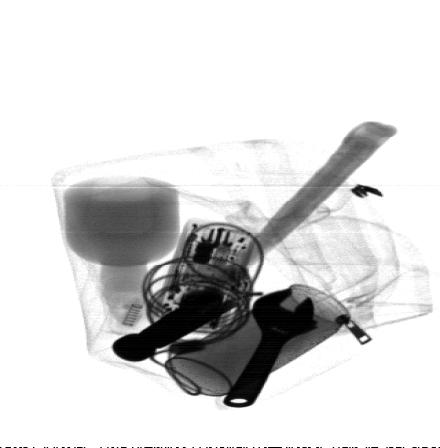Hammer: (111, 121, 398, 361)
Wrench: (223, 288, 318, 407)
